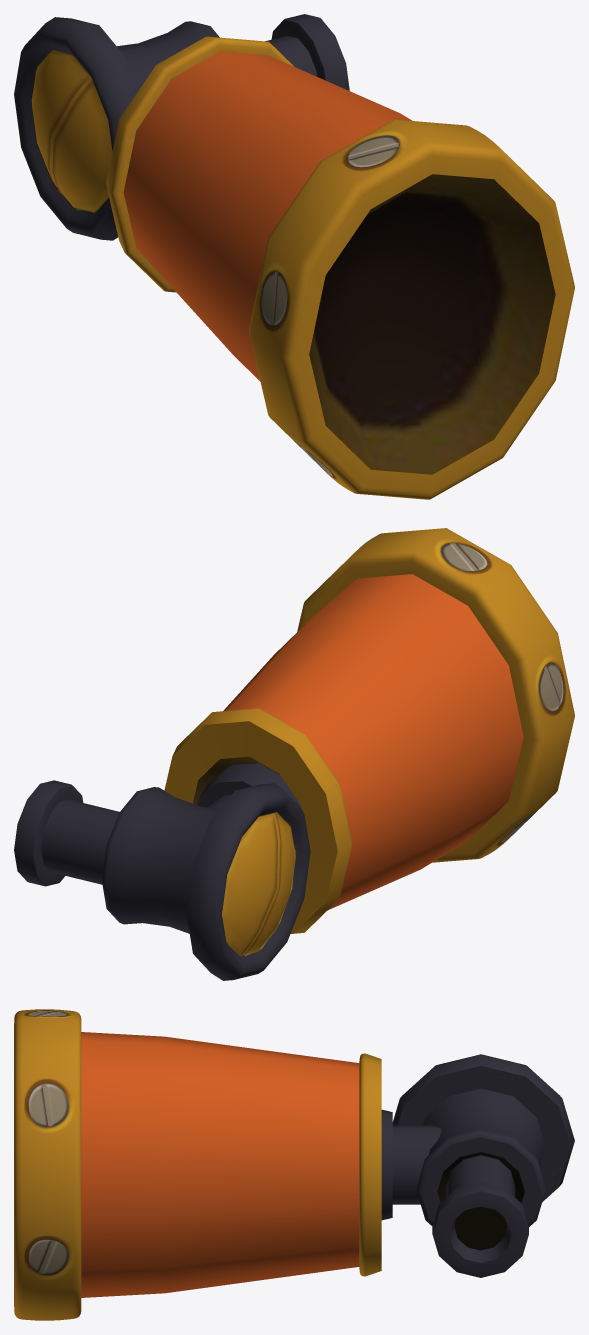
The model's file is Assist_jixiebi02.FBX.
3 views of the same model, one above another, from view 1: azimuth 30°, elevation 25°; view 2: azimuth 150°, elevation 25°; view 3: azimuth 270°, elevation 25° (orthographic). The views are drawn at different scales.
Parts seen in each view (by area): view 1: Weapon_jixiebi02; view 2: Weapon_jixiebi02; view 3: Weapon_jixiebi02.
Boxes of the visible parts, <box> form: Weapon_jixiebi02: <box>14,14,574,499</box>; Weapon_jixiebi02: <box>14,528,574,980</box>; Weapon_jixiebi02: <box>14,1009,574,1320</box>.
Size of the model in its own units: 1.53 by 1.63 by 2.83.
Materials: 1 (1 with a texture image).
